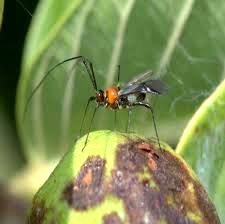Helopeltis-insect: (91, 71, 157, 114)
